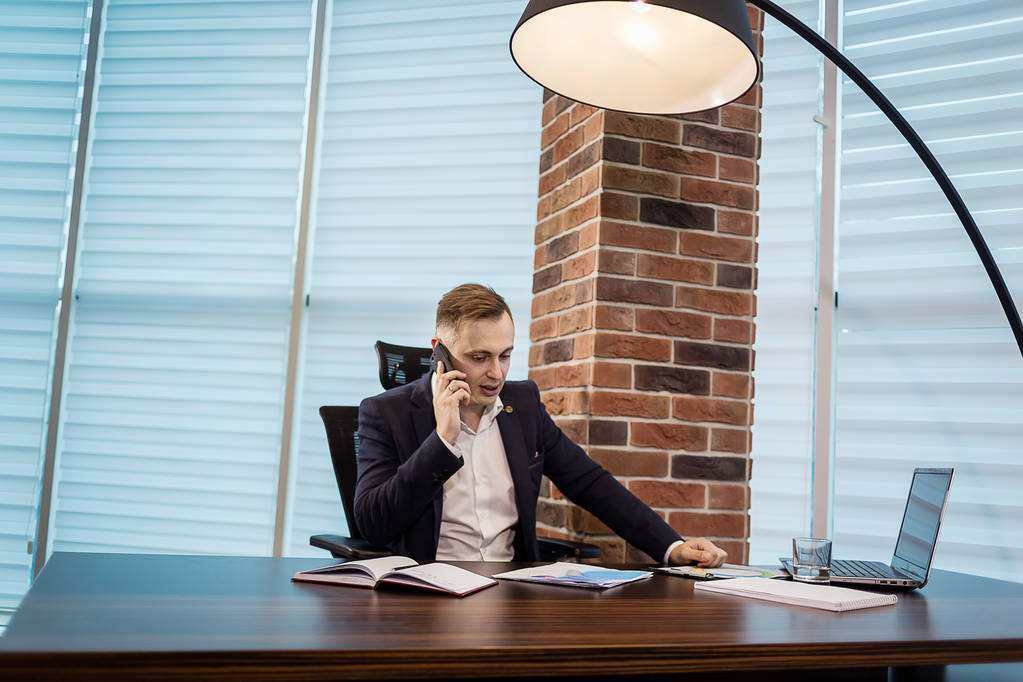calling: (428, 341, 473, 438)
